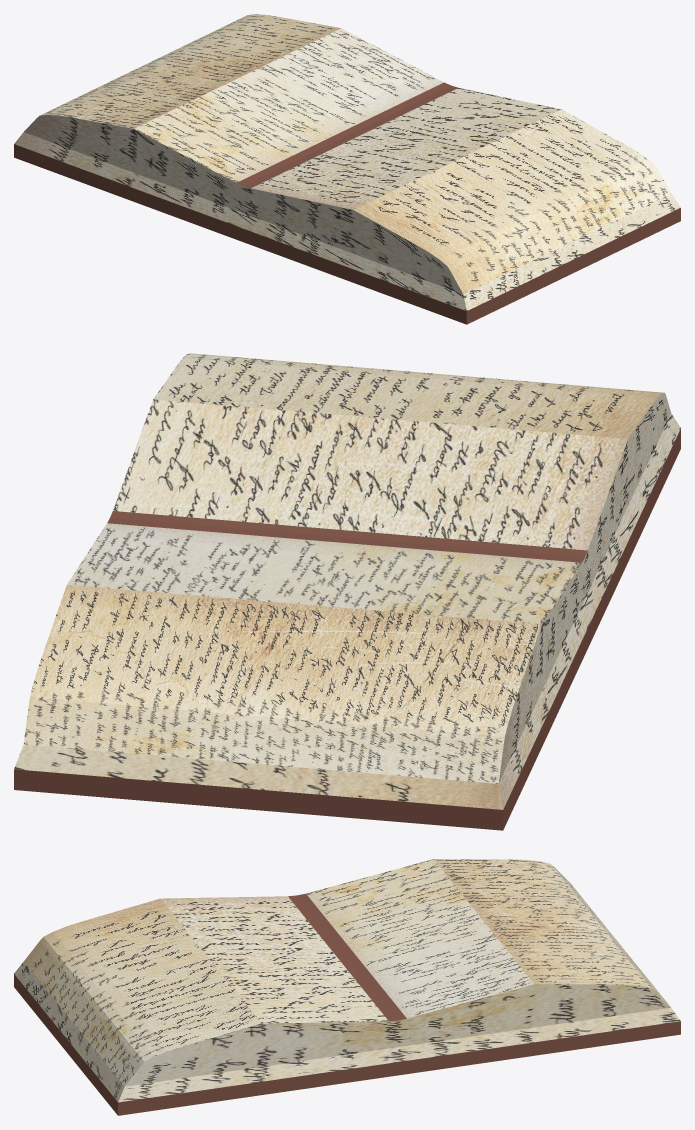
Rendered from Prop_Laboratorio_Libro.fbx.
3 views of the same model, one above another, from view 1: azimuth 30°, elevation 25°; view 2: azimuth 150°, elevation 25°; view 3: azimuth 270°, elevation 25° (orthographic). The views are drawn at different scales.
Parts seen in each view (by area): view 1: Cube.044; view 2: Cube.044; view 3: Cube.044.
Boxes of the visible parts, x1,y1,x2,y2 form: Cube.044: (14, 14, 680, 324); Cube.044: (14, 353, 680, 830); Cube.044: (14, 859, 680, 1115).
Bounding box in the file's own units: 483 × 74.47 × 648.
